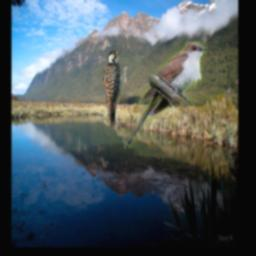Cuckoo: (124, 42, 207, 148)
Woodpecker: (98, 50, 121, 132)
